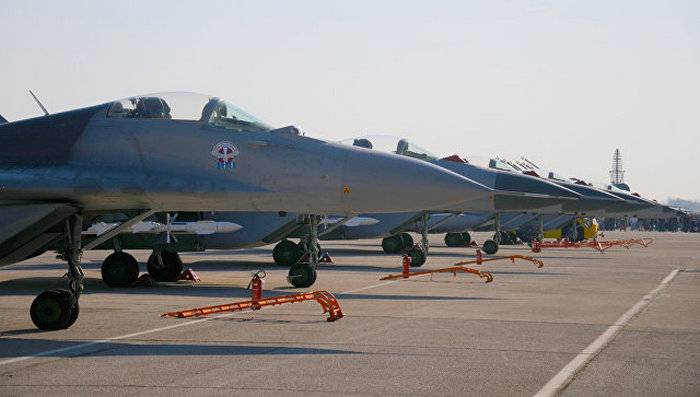Mig-29: (2, 60, 688, 326)
